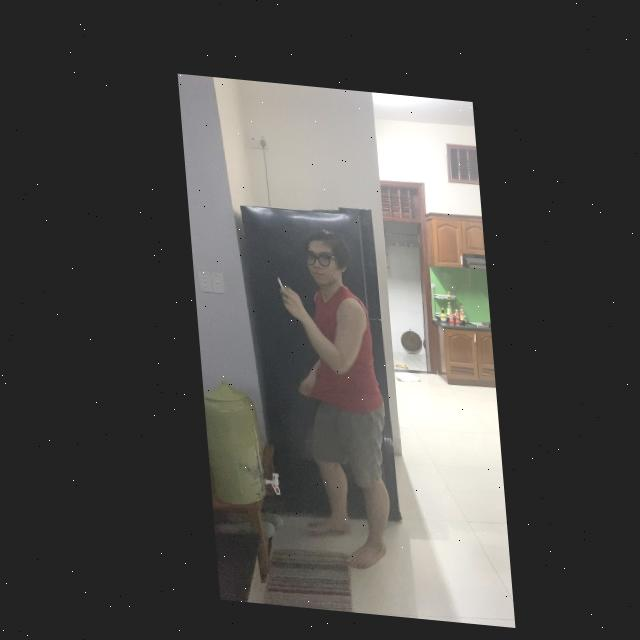cigarette: (272, 272, 279, 285)
